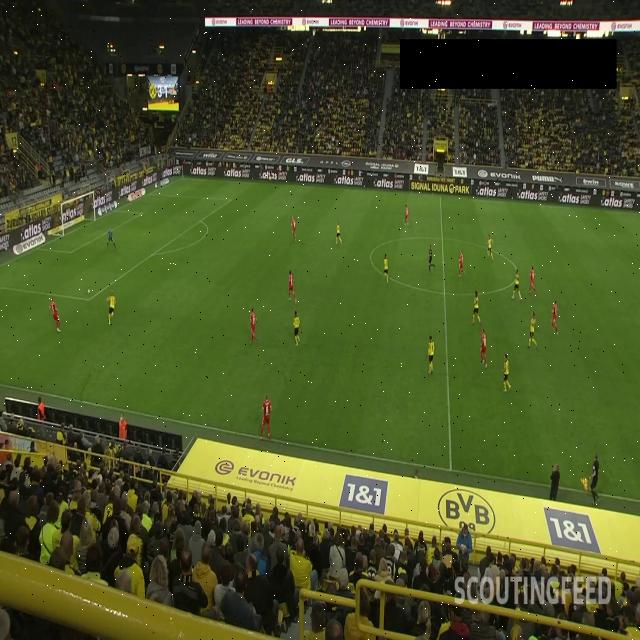Ball: (87, 288, 91, 294)
GoalKeeper: (105, 228, 117, 249)
Referee: (581, 452, 599, 507), (428, 245, 435, 272)
TEAM 1: (259, 395, 272, 441), (48, 298, 62, 331), (479, 328, 489, 369), (248, 307, 258, 344), (551, 300, 558, 336), (528, 266, 537, 294), (289, 271, 297, 299), (457, 251, 465, 278), (292, 217, 297, 244), (404, 207, 409, 226)
TEAM 2: (501, 353, 512, 392), (528, 310, 538, 350), (471, 291, 482, 326), (427, 336, 435, 376), (512, 270, 522, 300), (106, 293, 115, 326), (293, 310, 300, 346), (486, 232, 494, 260), (382, 255, 389, 285), (335, 221, 343, 246)
